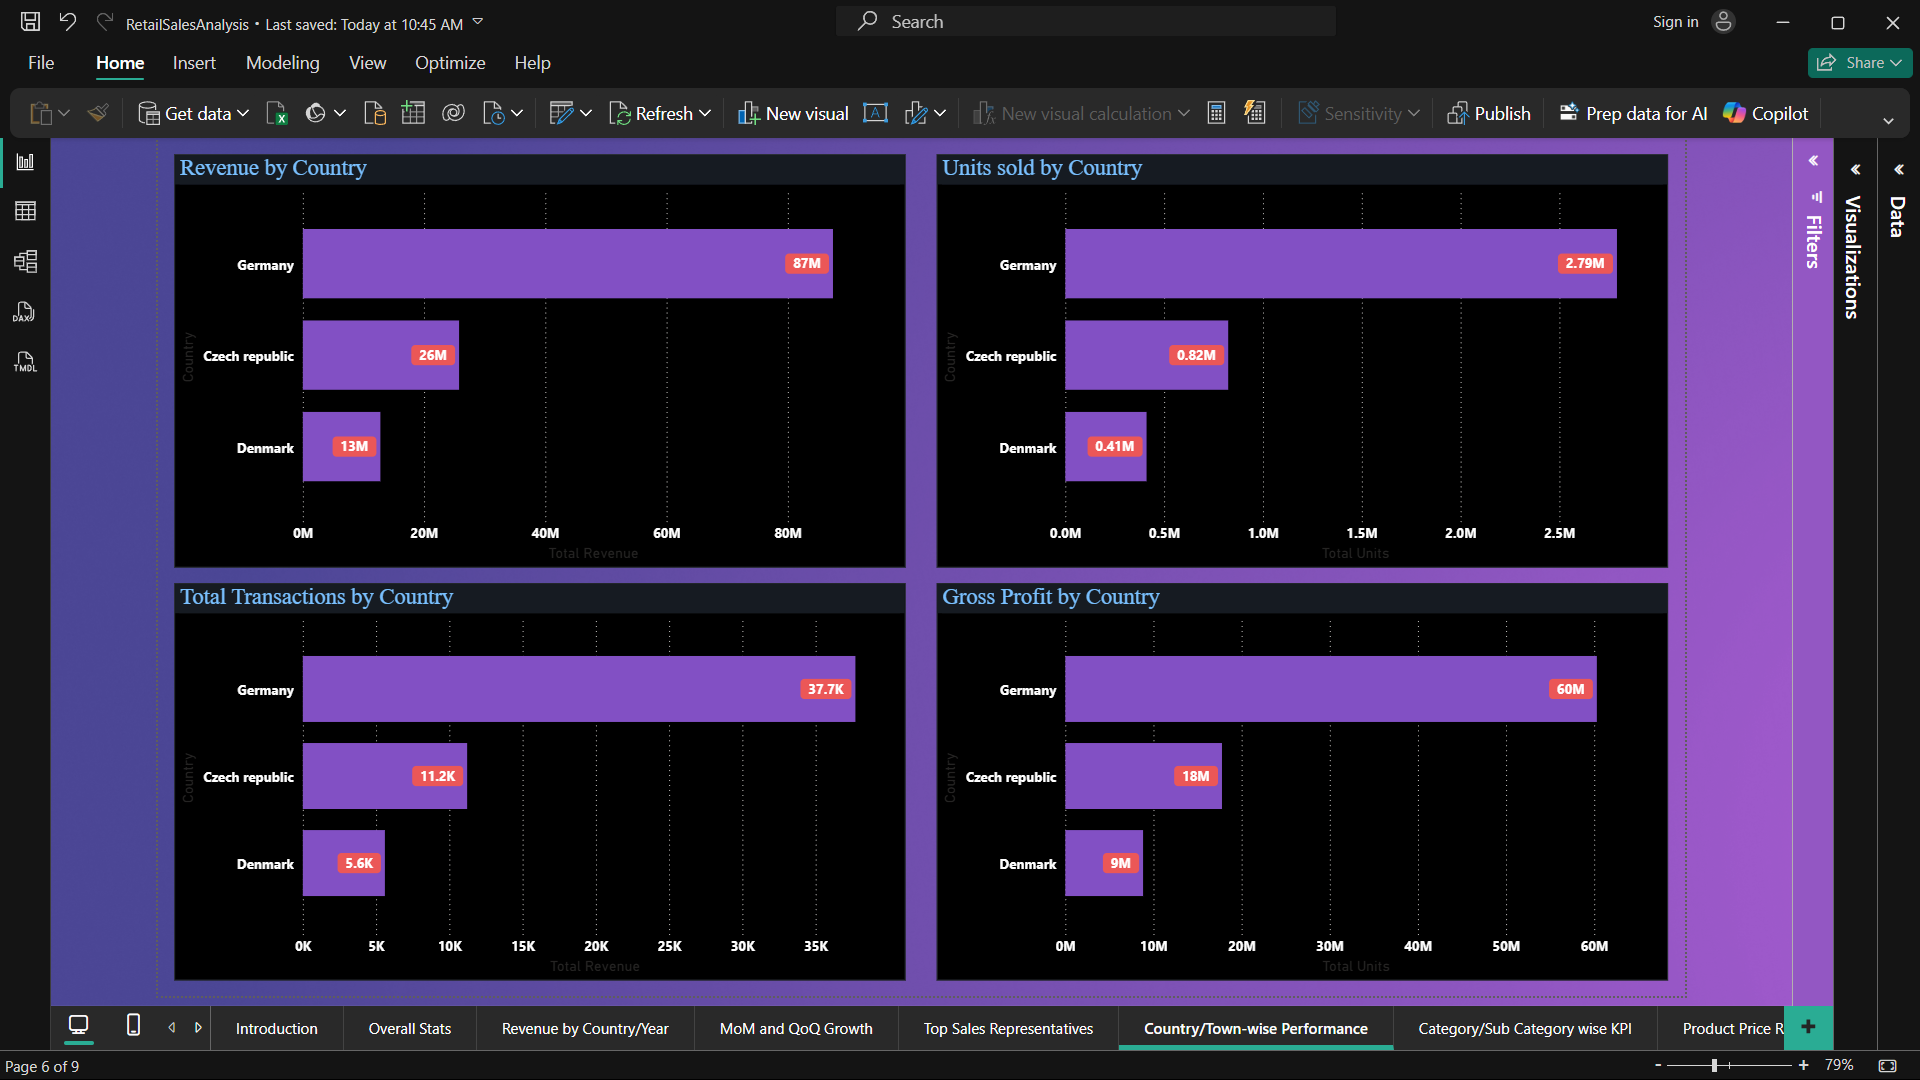

The page's visual inventory and layout, read from the dashboard file:
{"tool":"powerbi","page":{"name":"Country/Town-wise Performance","canvas":[1536,864],"ordinal":5},"visuals":[{"type":"clusteredBarChart","title":"Revenue by Country","fields":{"Category":["DimGeography.Country","DimGeography.Town"],"Y":["Sum(FactSales.Total Revenue)"]},"box":[16,16,736,416],"z":0},{"type":"clusteredBarChart","title":"Units sold by Country","fields":{"Category":["DimGeography.Country","DimGeography.Town"],"Y":["Sum(FactSales.Units)"]},"box":[784,16,736,416],"z":1000},{"type":"clusteredBarChart","title":"Total Transactions by Country","fields":{"Category":["DimGeography.Country","DimGeography.Town"],"Y":["FactSales.Total Transactions"]},"box":[16,448,736,400],"z":2000},{"type":"clusteredBarChart","title":"Gross Profit by Country","fields":{"Category":["DimGeography.Country","DimGeography.Town"],"Y":["Sum(FactSales.Gross Profit)"]},"box":[784,448,736,400],"z":3000}]}

Visuals, with their boxes on the page's 1536x864 design canvas (x1, y1, x2, y2). These are canvas units, not pixel positions in the 1920x1080 screenshot, which may show the page scaled, cropped or inside an application window:
"Revenue by Country" clusteredBarChart: Rect(16, 16, 752, 432)
"Units sold by Country" clusteredBarChart: Rect(784, 16, 1520, 432)
"Total Transactions by Country" clusteredBarChart: Rect(16, 448, 752, 848)
"Gross Profit by Country" clusteredBarChart: Rect(784, 448, 1520, 848)
